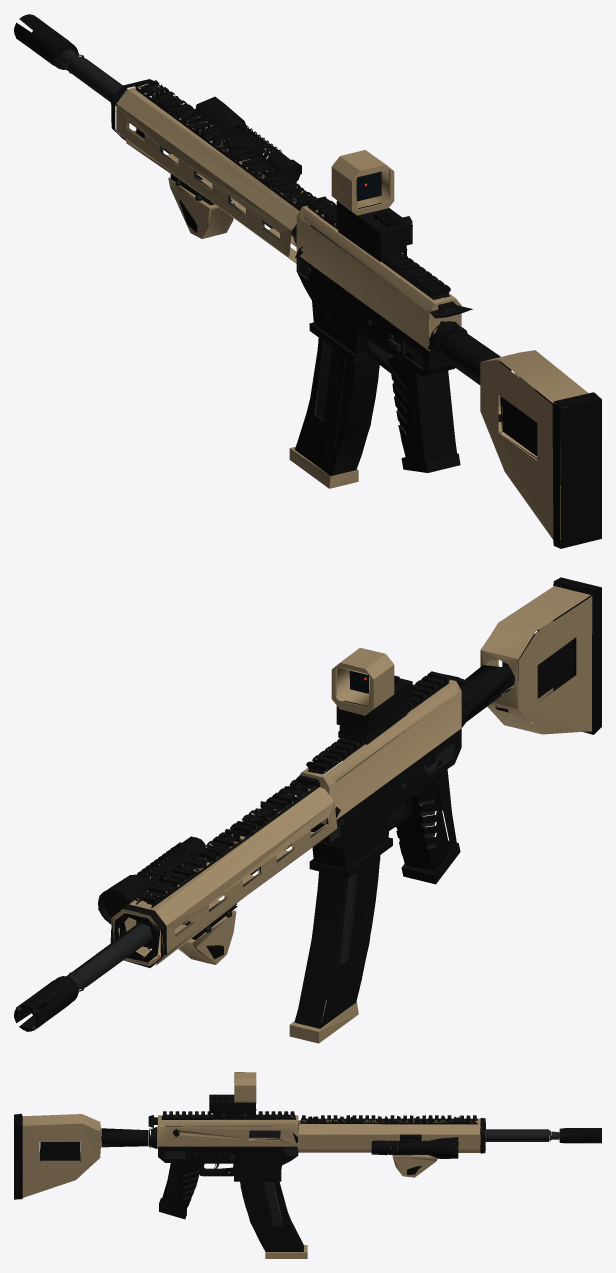
3 views of the same model, one above another, from view 1: azimuth 30°, elevation 25°; view 2: azimuth 150°, elevation 25°; view 3: azimuth 270°, elevation 25° (orthographic). The views are drawn at different scales.
Visible parts, largest first — view 1: stock, handguard, upper, magazine, receiver, optic, grip, light, foregrip, muzzle, barrel; view 2: stock, handguard, magazine, upper, receiver, optic, grip, light, barrel, muzzle, foregrip; view 3: stock, handguard, upper, magazine, receiver, optic, grip, light, barrel, foregrip, muzzle, trigger_guard.
Boxes of the visible parts, x1,y1,x2,y2 form: stock: (427, 321, 601, 548); handguard: (110, 79, 334, 263); upper: (296, 196, 472, 350); magazine: (289, 338, 379, 488); receiver: (296, 256, 455, 376); optic: (331, 150, 412, 261); grip: (389, 352, 460, 472); light: (195, 96, 301, 183); foregrip: (168, 174, 235, 238); muzzle: (14, 14, 78, 69); barrel: (59, 48, 337, 245); stock: (459, 577, 601, 734); handguard: (110, 775, 340, 967); magazine: (289, 828, 380, 1043); upper: (297, 671, 472, 824); receiver: (309, 728, 461, 878); optic: (331, 647, 412, 744); grip: (395, 759, 460, 884); light: (98, 836, 206, 924); barrel: (67, 822, 321, 991); muzzle: (14, 976, 78, 1031); foregrip: (178, 903, 237, 964); stock: (14, 1113, 157, 1199); handguard: (293, 1115, 485, 1153); upper: (148, 1111, 298, 1146); magazine: (240, 1176, 307, 1258); receiver: (158, 1146, 298, 1181); optic: (209, 1072, 256, 1119); grip: (159, 1158, 201, 1219); light: (371, 1134, 458, 1158); barrel: (298, 1128, 559, 1141); foregrip: (392, 1153, 437, 1177); muzzle: (559, 1128, 601, 1143); trigger_guard: (199, 1163, 234, 1176).
Size of the model in its own units: 0.089 by 0.3176 by 0.942.
